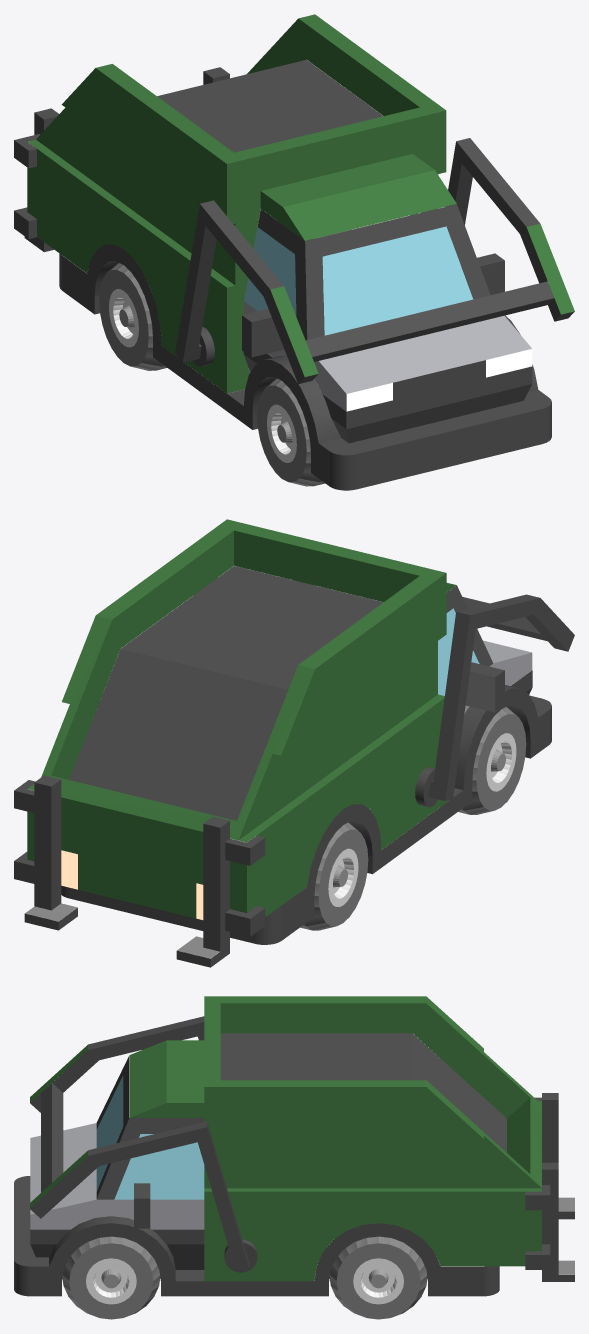
Rendered from garbage-truck.glb.
3 renders of one model, top to bottom at view 1: azimuth 30°, elevation 25°; view 2: azimuth 150°, elevation 25°; view 3: azimuth 270°, elevation 25°, orthographic. The views are drawn at different scales.
Visible parts, largest first — view 1: body.003, arm, wheel_backRight.003, wheel_frontRight.003; view 2: body.003, arm, wheel_backRight.003, wheel_frontRight.003; view 3: body.003, arm, wheel_frontLeft.003, wheel_backLeft.003.
Part boxes in pixels (left/top/right/bottom): body.003: left=14, top=14, right=551, bottom=490; arm: left=175, top=138, right=574, bottom=384; wheel_backRight.003: left=99, top=263, right=166, bottom=370; wheel_frontRight.003: left=257, top=378, right=324, bottom=486; body.003: left=14, top=519, right=551, bottom=967; arm: left=197, top=580, right=574, bottom=807; wheel_backRight.003: left=284, top=822, right=368, bottom=930; wheel_frontRight.003: left=458, top=707, right=526, bottom=814; body.003: left=14, top=996, right=574, bottom=1296; arm: left=30, top=1016, right=257, bottom=1272; wheel_frontLeft.003: left=62, top=1236, right=160, bottom=1319; wheel_backLeft.003: left=329, top=1236, right=427, bottom=1319.
Size of the model in its own units: 4.24 by 4.23 by 9.
